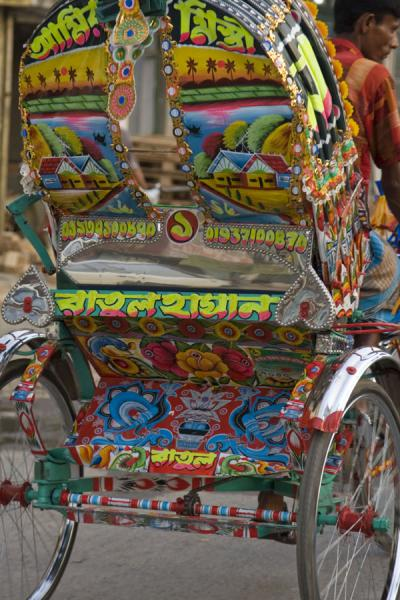Rickshaw: (6, 6, 370, 598)
